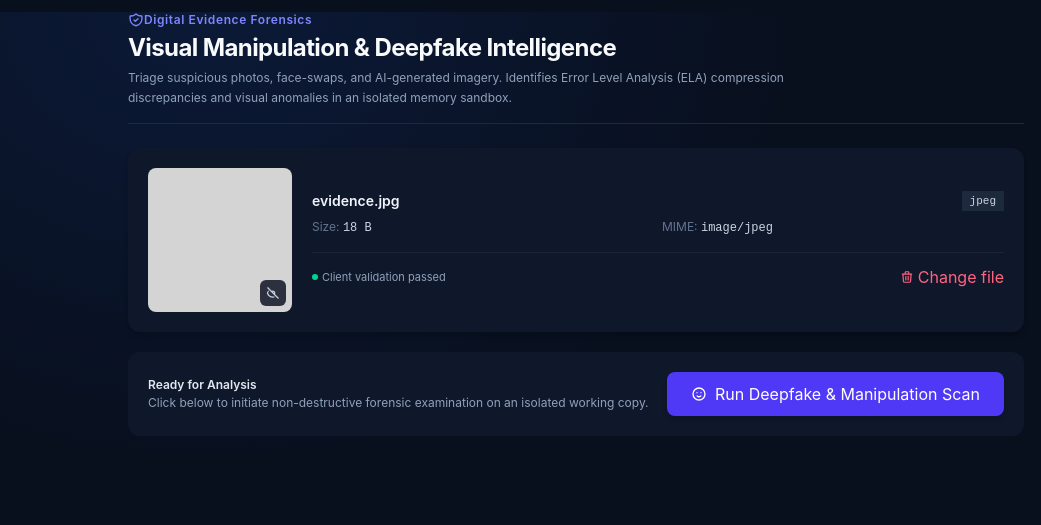
Test case: SafeImageAnalysisWorkflow Component › handles request timeout (504) gracefully with actionable feedback
Earlier steps of the test are not shown.
Click the button "Run Deepfake & Manipulation Scan". click: point(836, 394)
box: [667,372,1004,416]
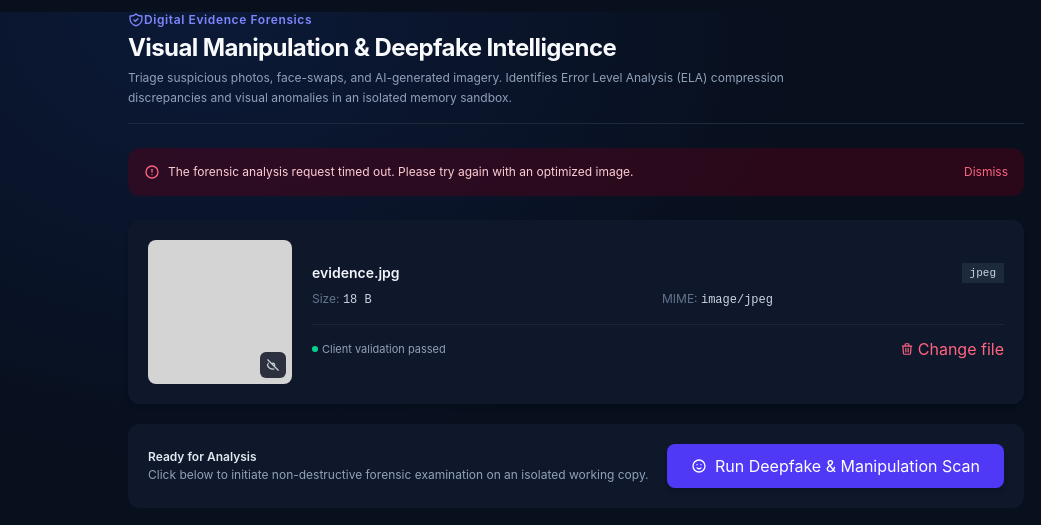
expect the message shows "The forensic analysis request timed out. Please try again with an optimized image": met, box [168,164,634,179]
